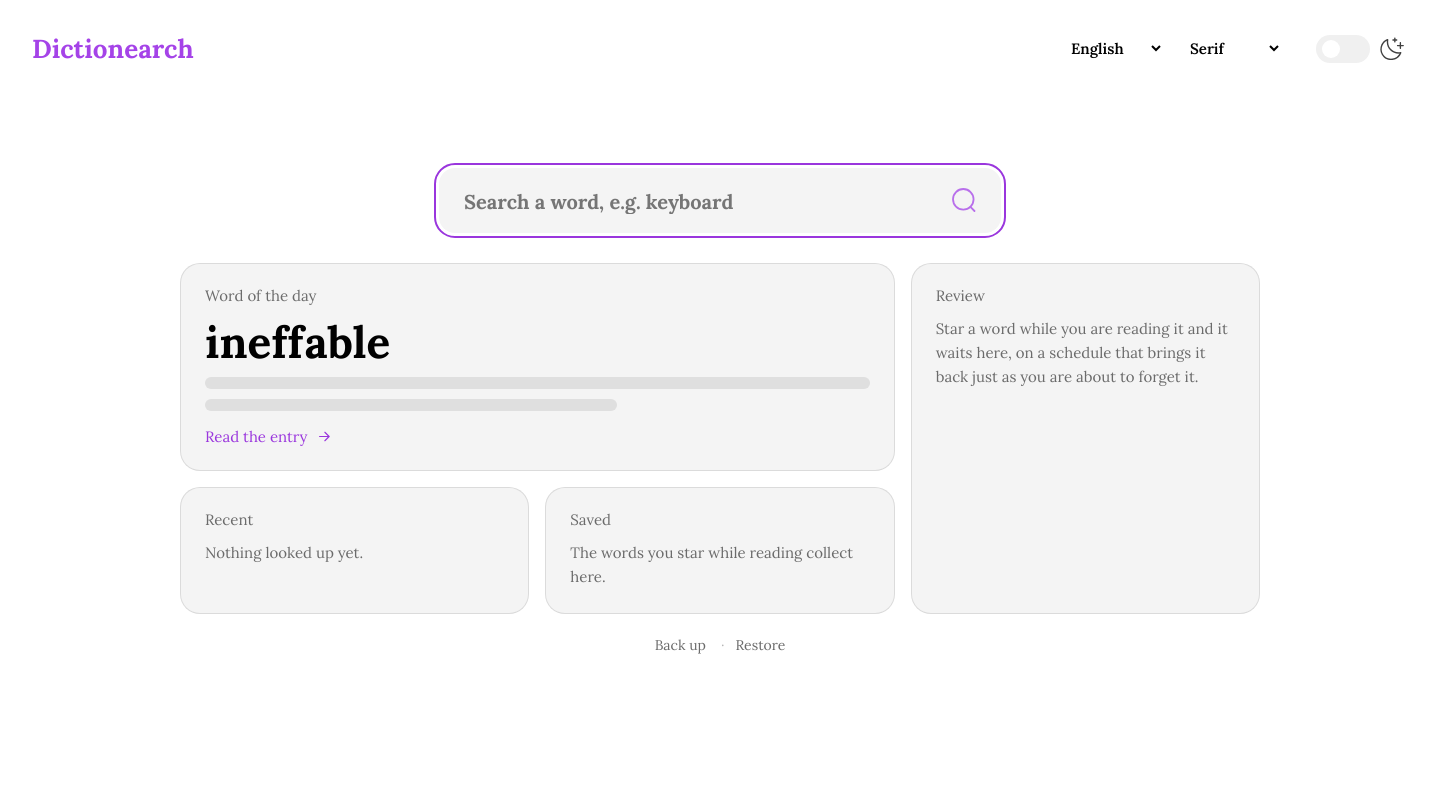
Test: offers one button per recording when the word has several
Type "keyboard" into the dropdown named "Search for a word" at (684, 200), box [440, 169, 928, 232]
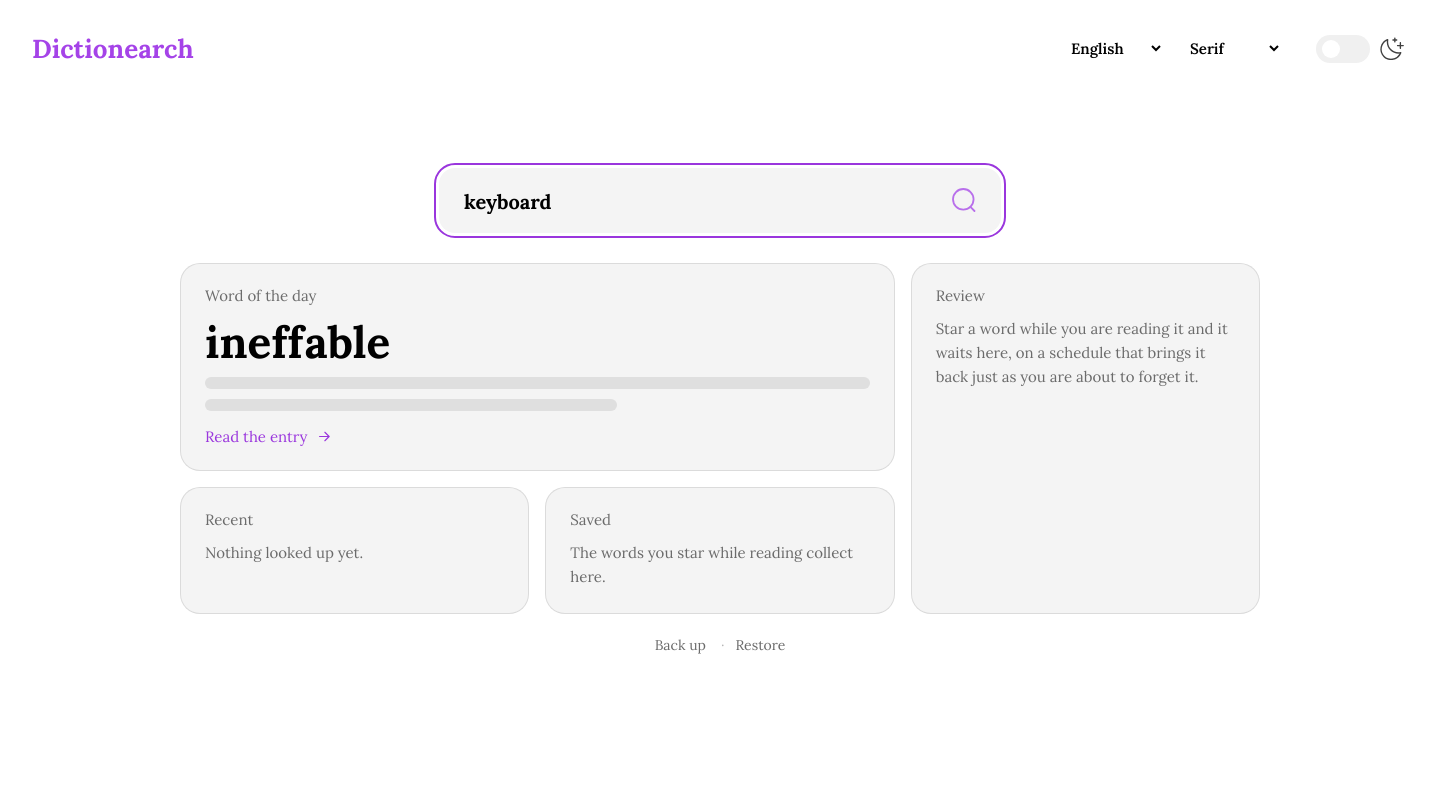
Submit the form named "Search for a word", box [439, 168, 1001, 233]
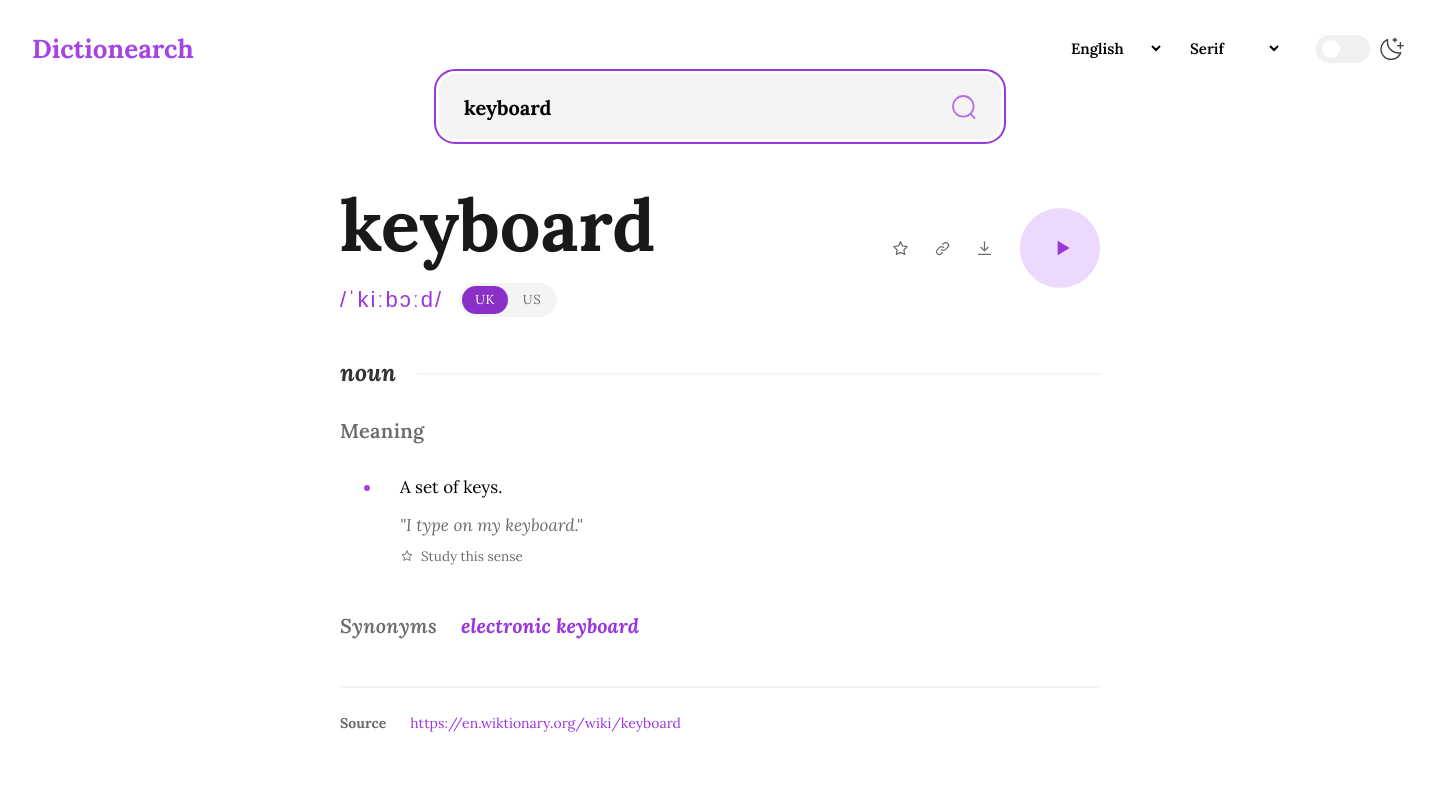
expect the heading "keyboard" is shown: met, box [340, 179, 655, 271]
expect the button "UK" is shown: met, box [462, 286, 508, 314]
expect the number of buttons "UK" is 2: met
Click the button "US" at (532, 300), box [510, 286, 554, 314]
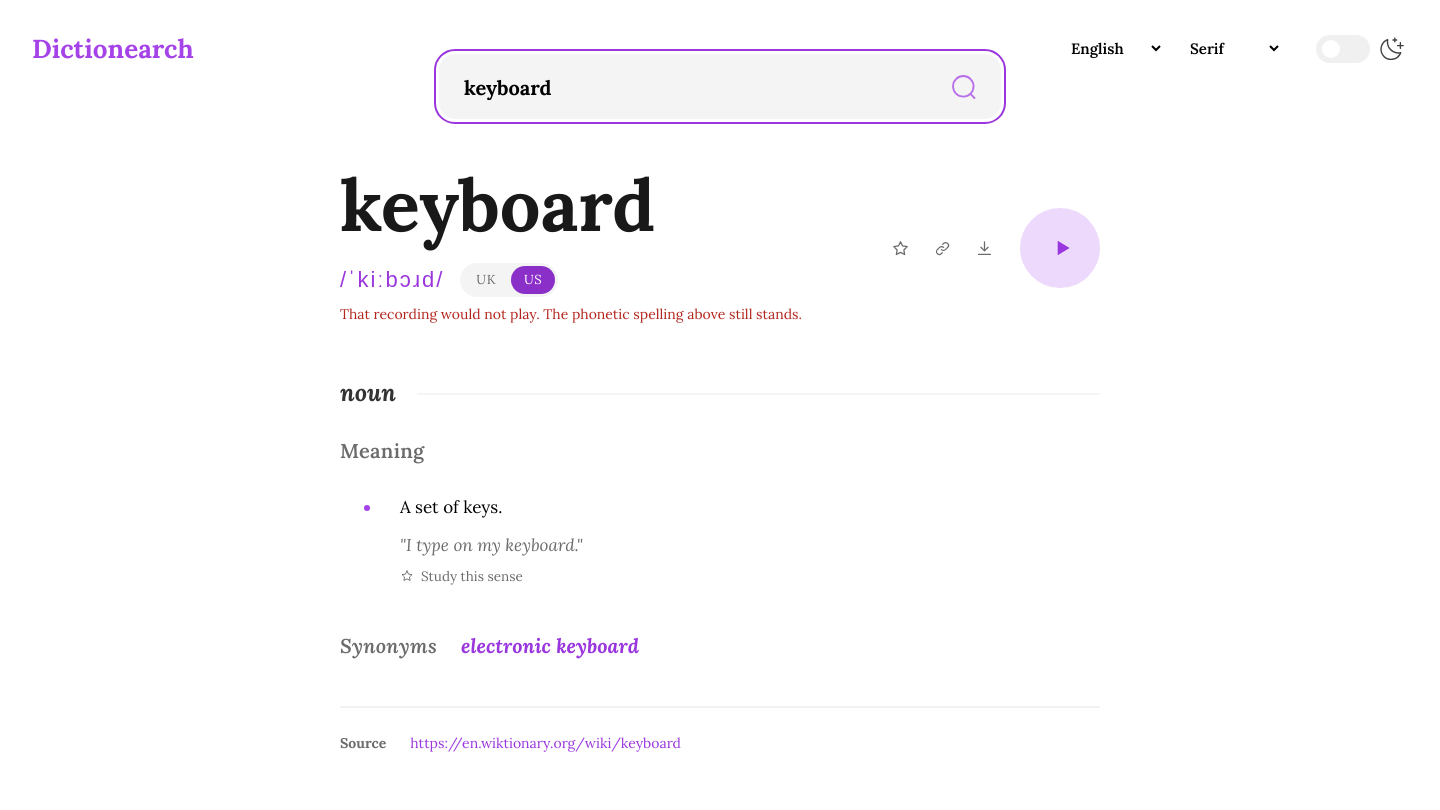
expect the text "/ˈkiːbɔɹd/" is shown: met, box [340, 267, 444, 293]
